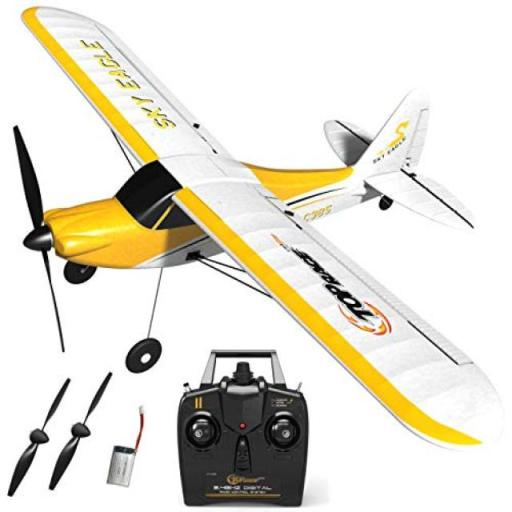uav: (6, 4, 508, 458)
